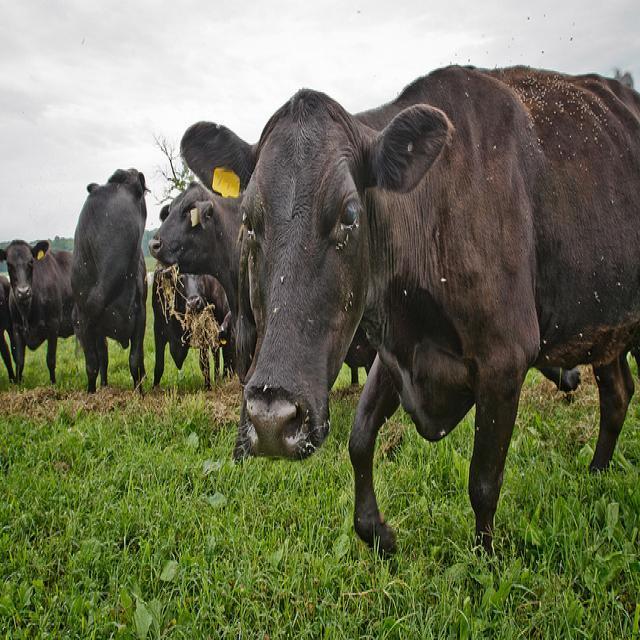cow: (180, 62, 639, 558), (147, 180, 245, 400), (70, 164, 147, 394), (0, 235, 73, 385), (149, 258, 210, 391), (235, 228, 261, 379), (343, 317, 374, 385), (0, 272, 15, 377)
